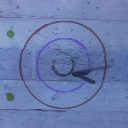Axe Tip: (76, 71, 89, 74)
